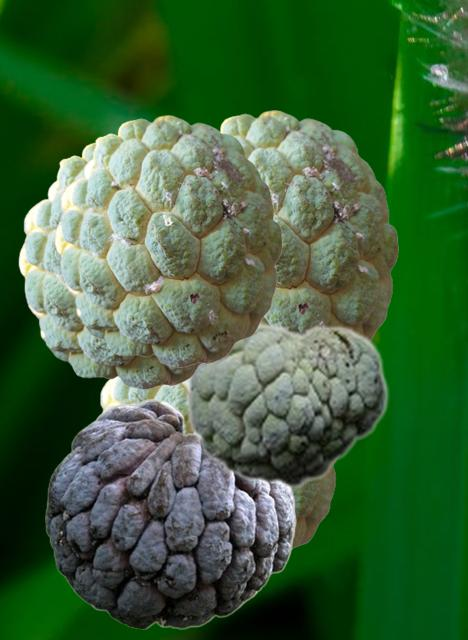atis: (45, 398, 295, 628), (54, 115, 281, 366), (18, 140, 202, 388), (98, 378, 337, 550), (218, 110, 397, 339), (185, 319, 388, 488)
